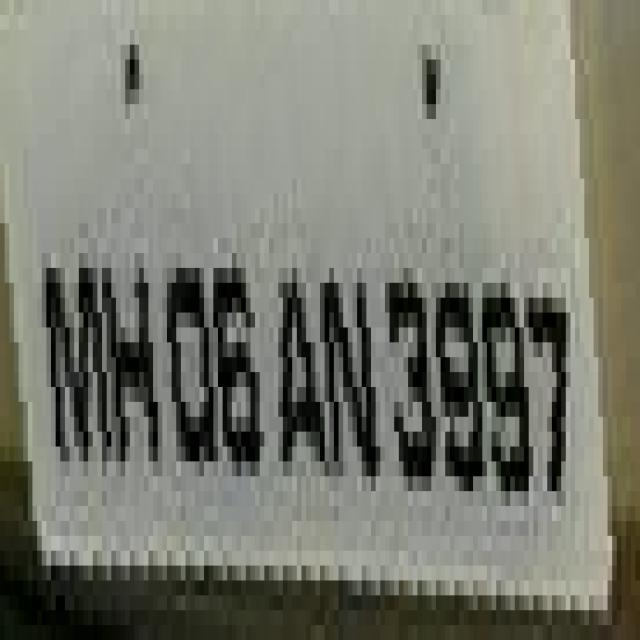license_plate: (9, 44, 640, 580)
